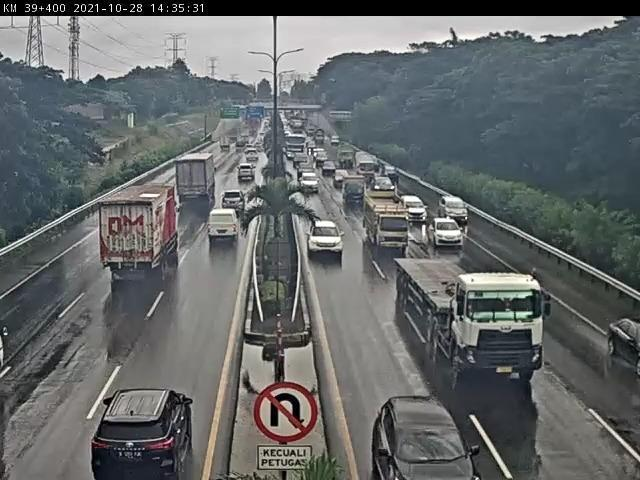car: (90, 390, 197, 480), (376, 398, 479, 480), (606, 317, 640, 373), (310, 220, 345, 255), (430, 219, 465, 249), (211, 211, 240, 243), (438, 198, 469, 225), (403, 196, 427, 223), (342, 178, 366, 202), (220, 191, 246, 211), (301, 174, 321, 193), (382, 164, 401, 183), (374, 178, 396, 194), (236, 166, 255, 184), (336, 169, 351, 189), (293, 155, 309, 168), (298, 165, 314, 178), (317, 152, 330, 166), (325, 162, 338, 176), (246, 151, 258, 164)
truck: (396, 259, 544, 384), (99, 184, 181, 275), (366, 198, 409, 253), (177, 155, 217, 200), (285, 132, 307, 159), (357, 154, 378, 178), (340, 150, 355, 165), (219, 138, 232, 152)
